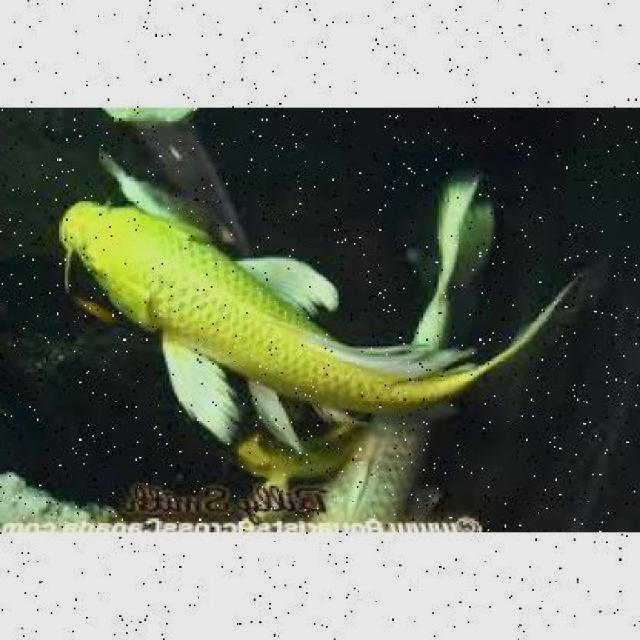ikan-mas: (53, 192, 587, 414)
